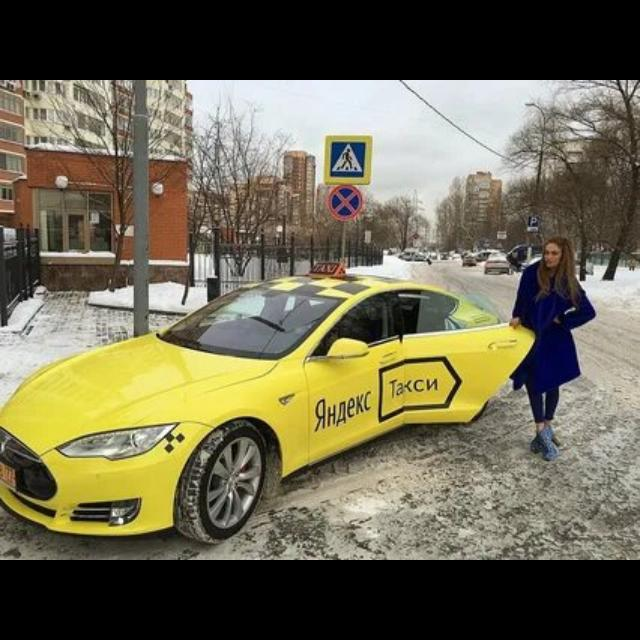taxi: (1, 262, 537, 545)
